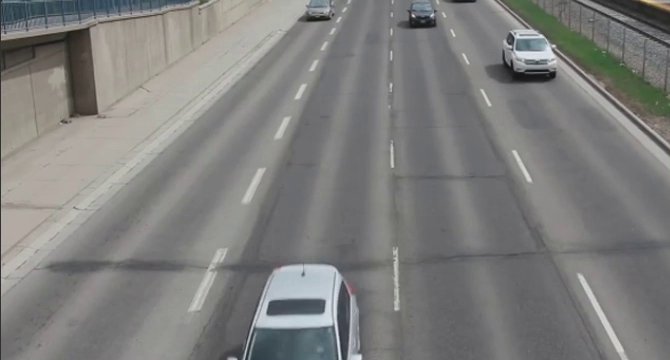car: (229, 264, 367, 360), (499, 27, 567, 85), (406, 1, 441, 30), (303, 1, 338, 19)
